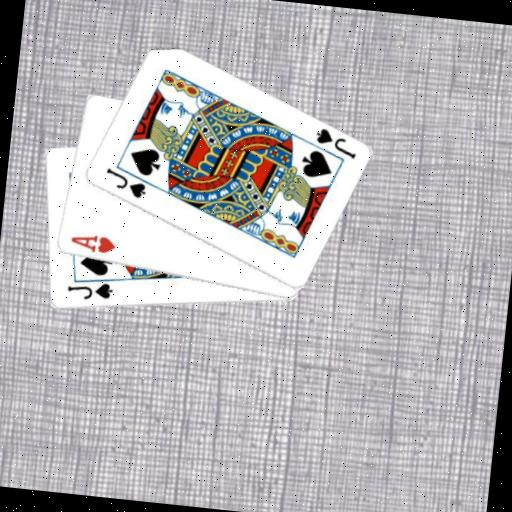AH: (67, 230, 118, 257)
JS: (100, 164, 149, 201), (311, 124, 360, 161), (63, 276, 115, 305)
